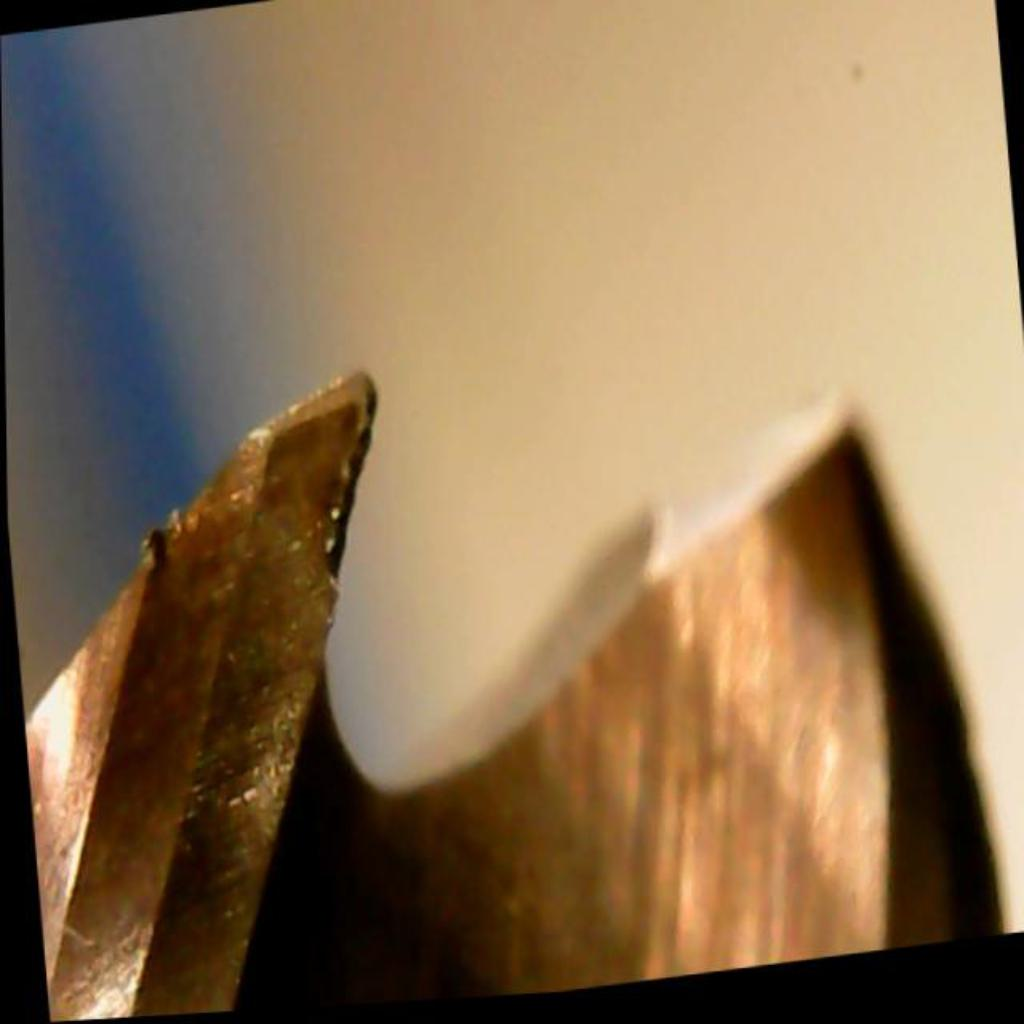Tool-wear-class-1: (152, 362, 408, 758)
